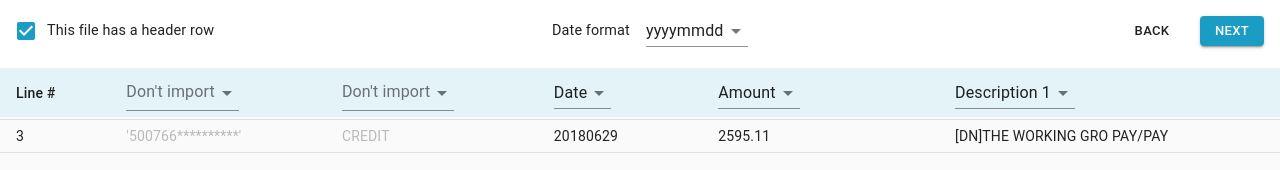
Test case: CsvColumnSelection › should change header row existance
The image size is (1280, 170).
Check: the row with test id "headerRow" is shown, box [0,54,1279,86]
What coordinates should you click on to do the following:
click the checkbox labelled "This file has a header row"
I would click on:
 (114, 31)
Its box is [14,19,214,43].
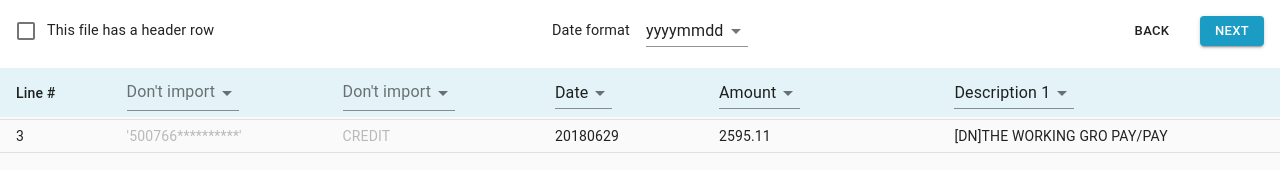
Check: the checkbox labelled "This file has a header row" is not checked
What coordinates should you click on to do the following:
click the checkbox labelled "This file has a header row"
I would click on:
 (114, 31)
Its box is [14,19,214,43].
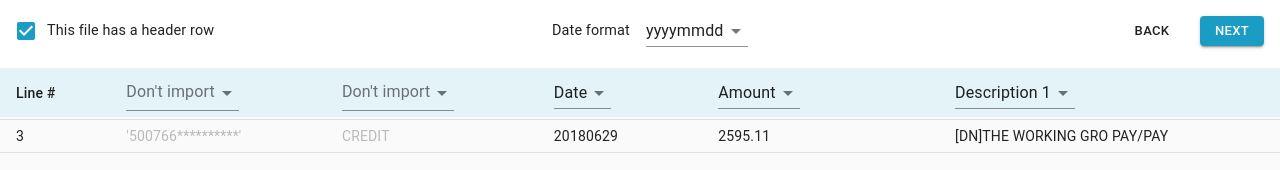
Check: the checkbox labelled "This file has a header row" is checked, box [14,19,214,43]
Check: the row with test id "headerRow" is shown, box [0,54,1279,86]
